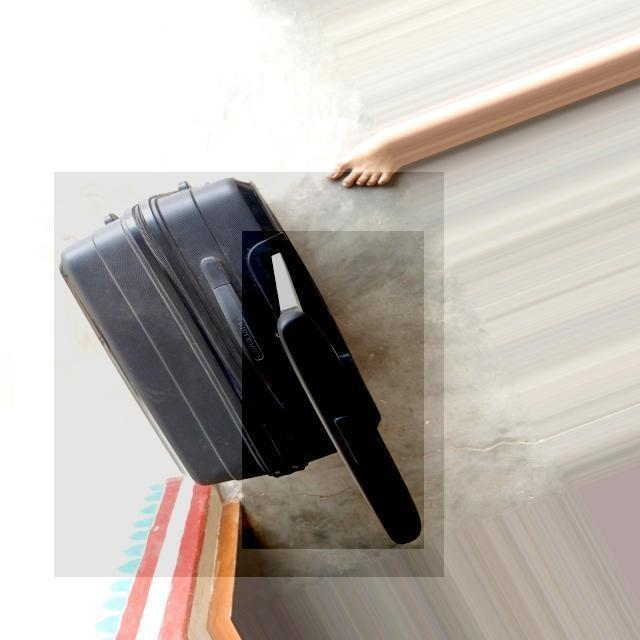Suitcase: (64, 182, 438, 574)
